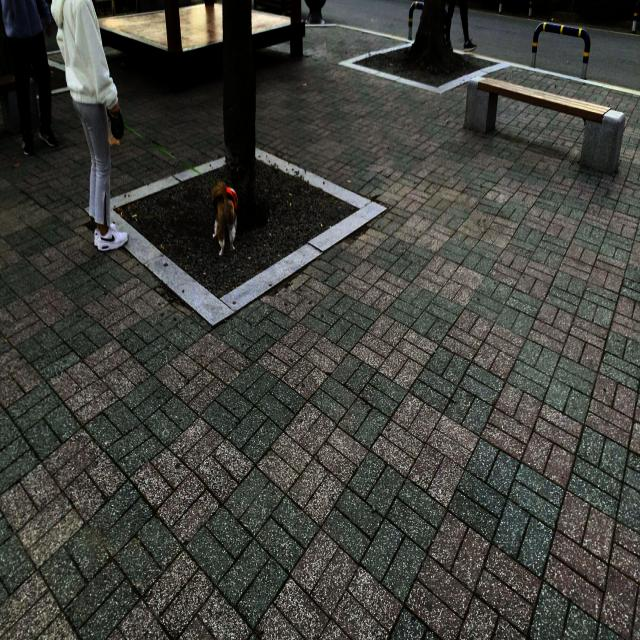Leashed_Dog: (97, 104, 238, 258)
